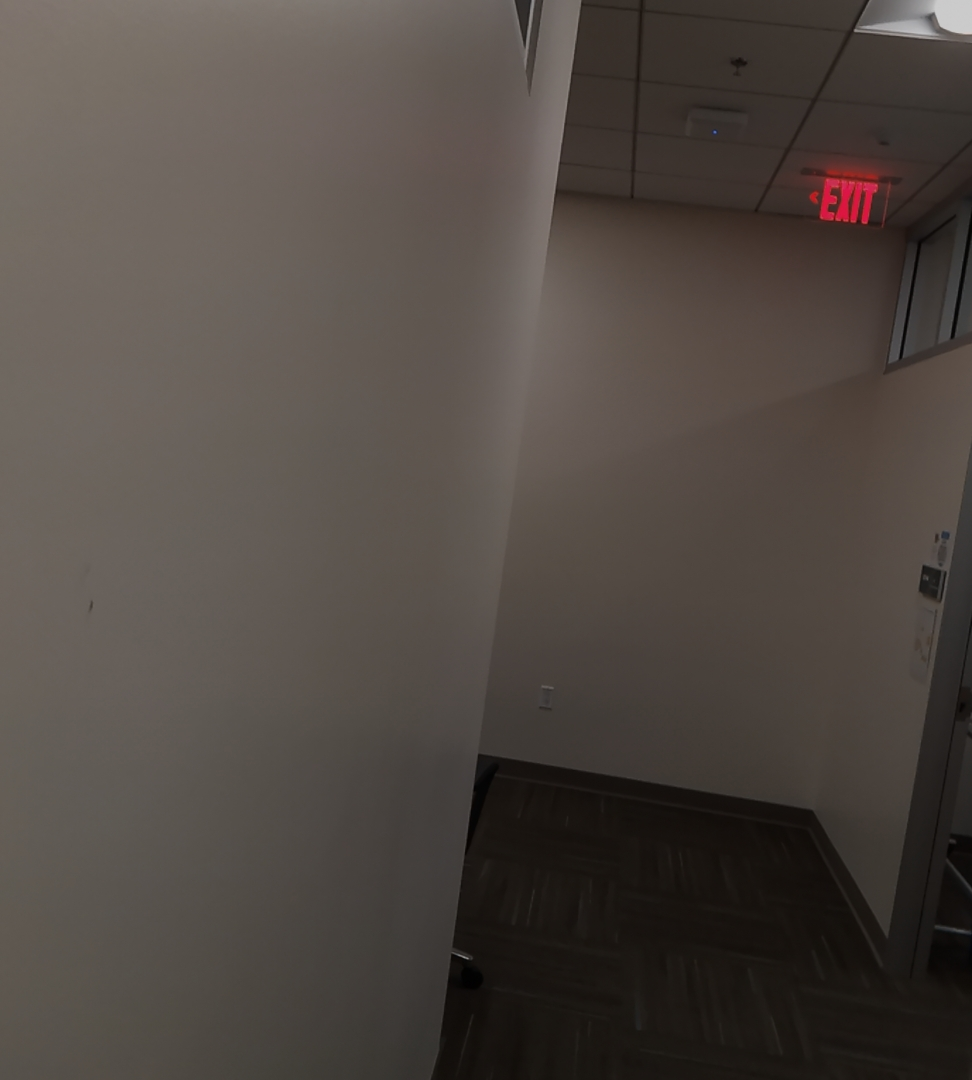emergency_exit: (803, 169, 895, 230)
